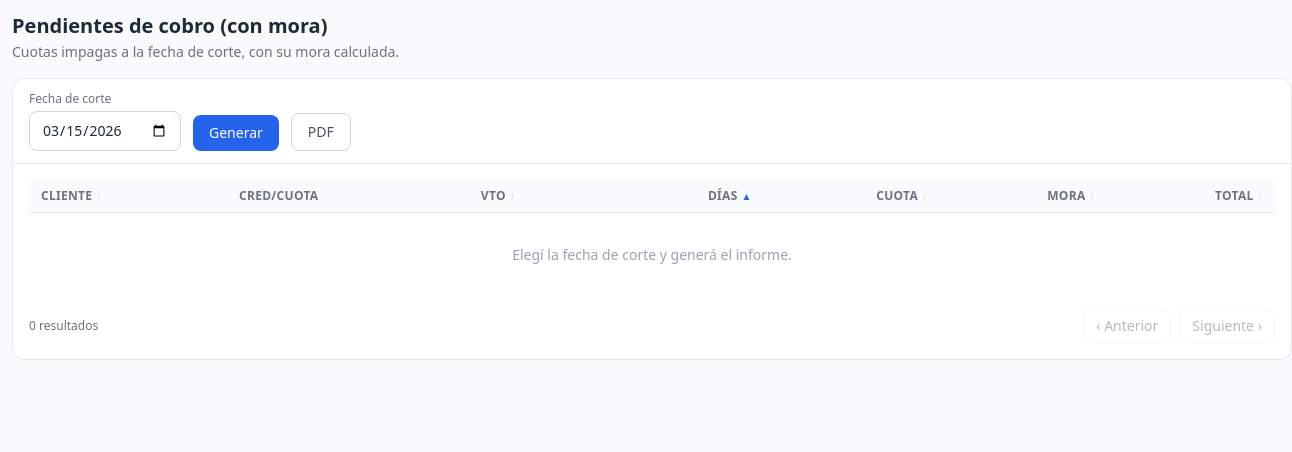
Scenario: Pendientes de cobro › genera el informe y muestra los totales de cuota y mora
The image size is (1292, 452).
Click the button "Generar" at (236, 133), box [193,115,279,151]
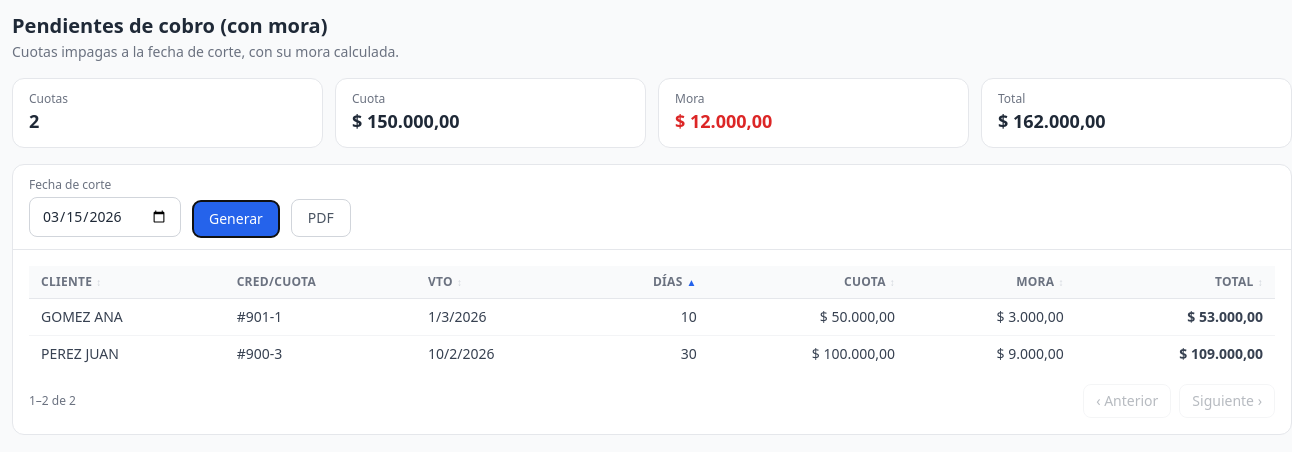
Expected: the text "mora" is shown, [12,12,328,39]
Result: the text "PEREZ JUAN" is shown at [29,336,225,372]
Result: the text "#900-3" is shown at [225,336,416,372]
